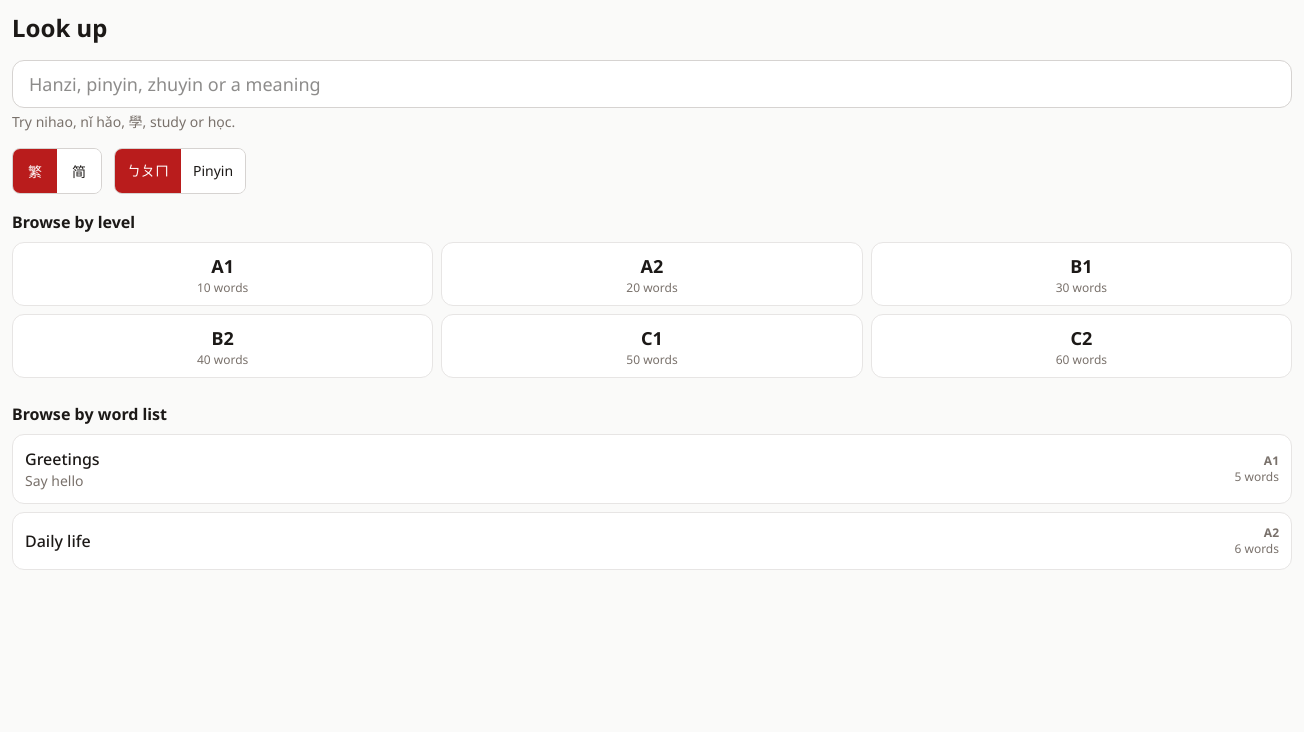
browse › opens a level and then lists its words
Click the button "A2 20 words".
click(652, 274)  # box [441,242,863,306]
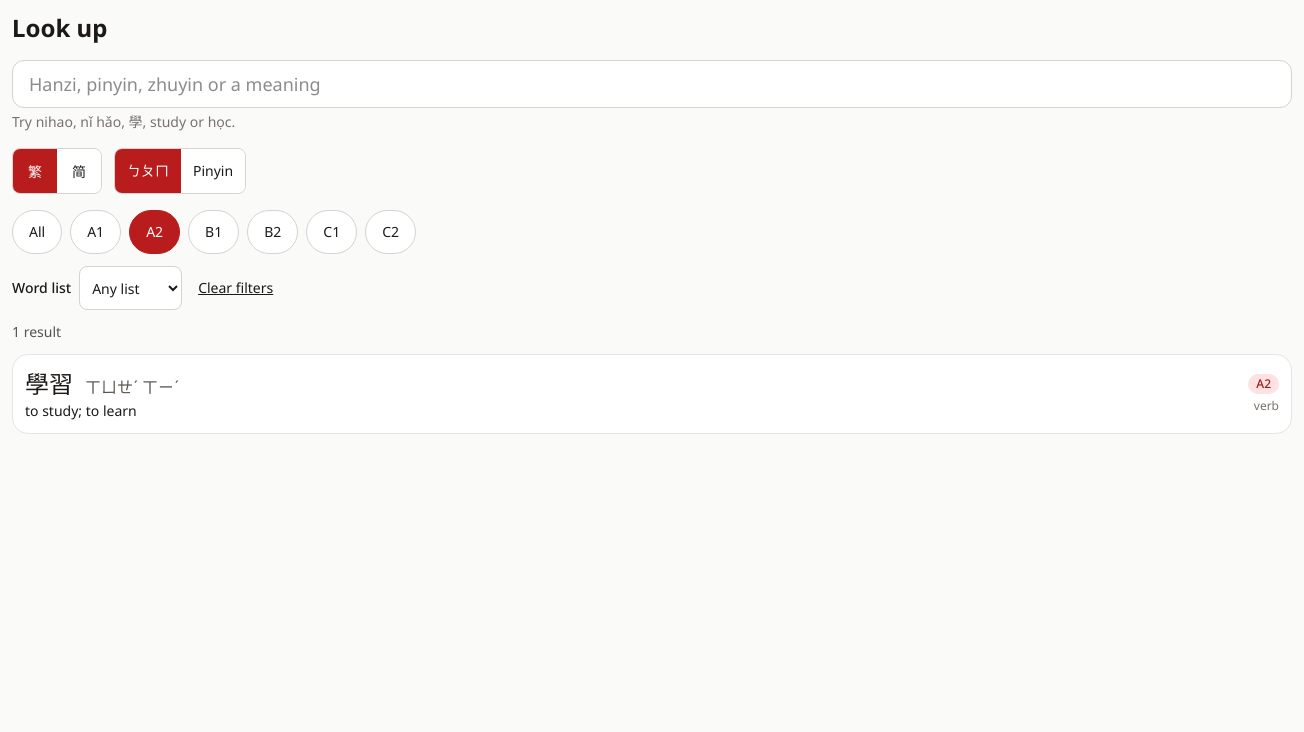
Now the text "學習" is shown, box [25,367,73,399]
